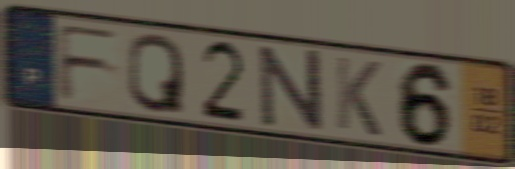2: (198, 39, 250, 126)
6: (394, 60, 459, 150)
F: (53, 21, 124, 103)
K: (332, 52, 384, 140)
N: (256, 44, 326, 134)
Q: (125, 30, 187, 116)
